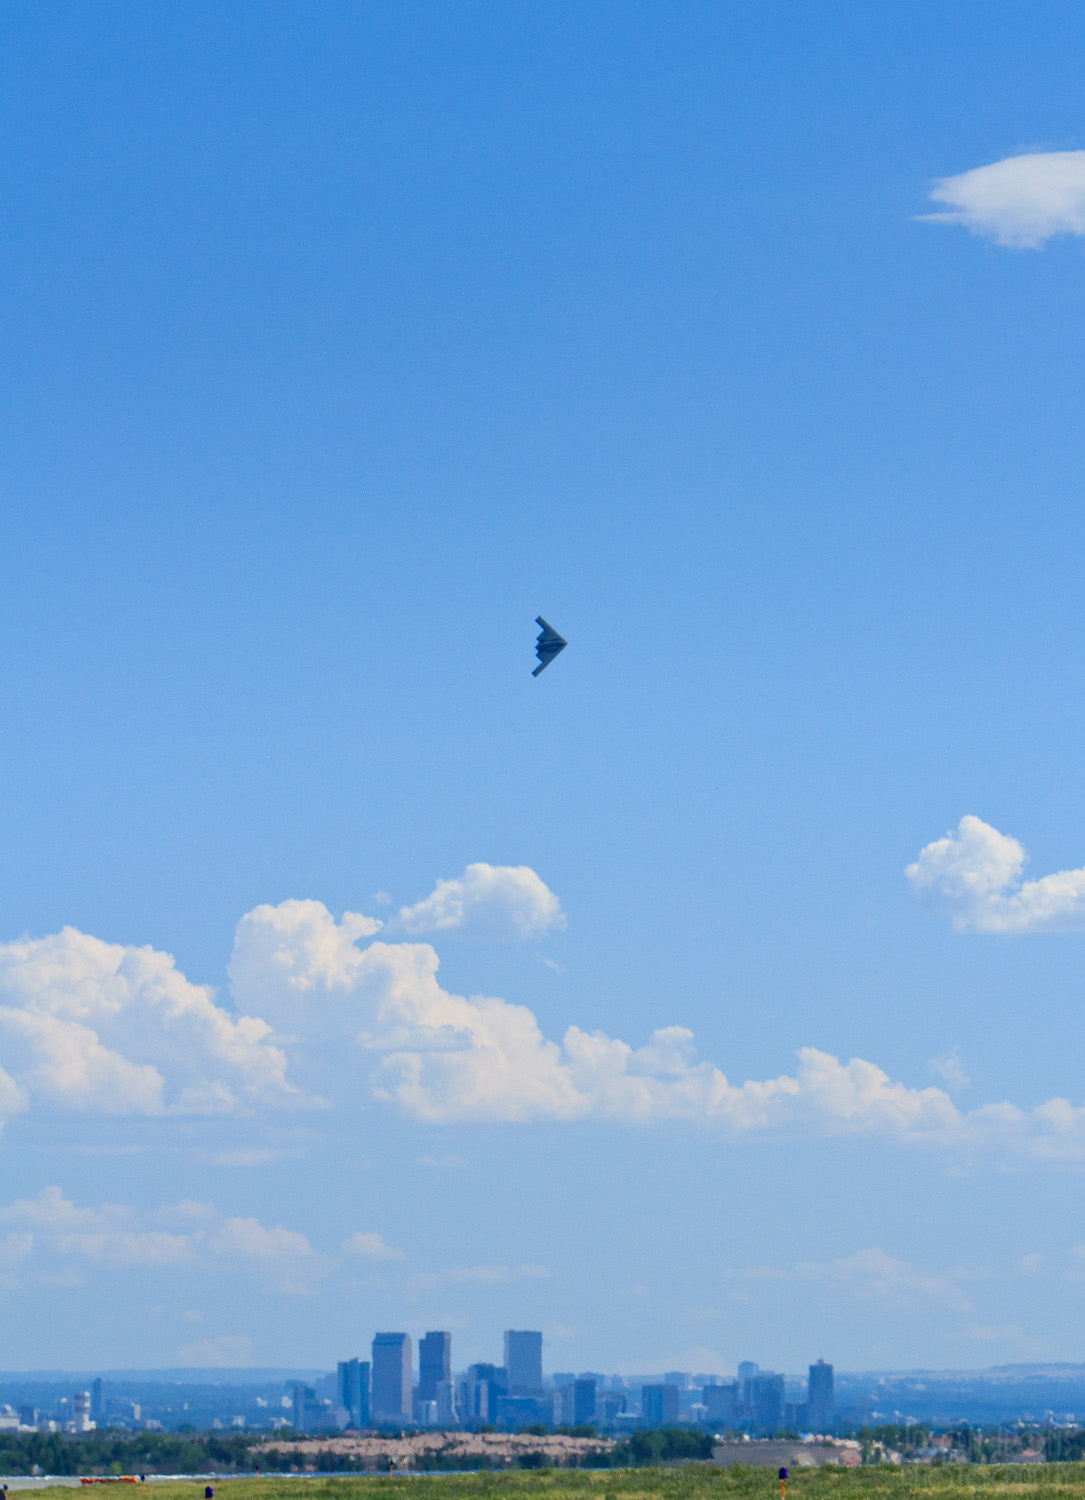B2: (531, 615, 568, 678)
